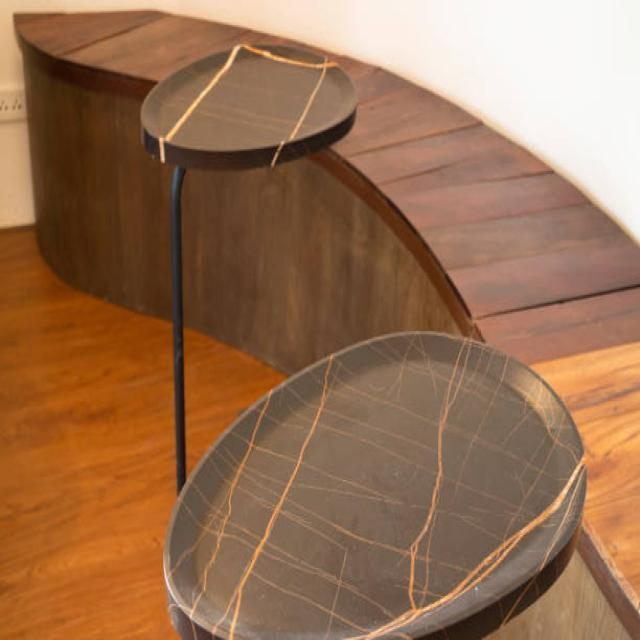table: (162, 328, 588, 638)
